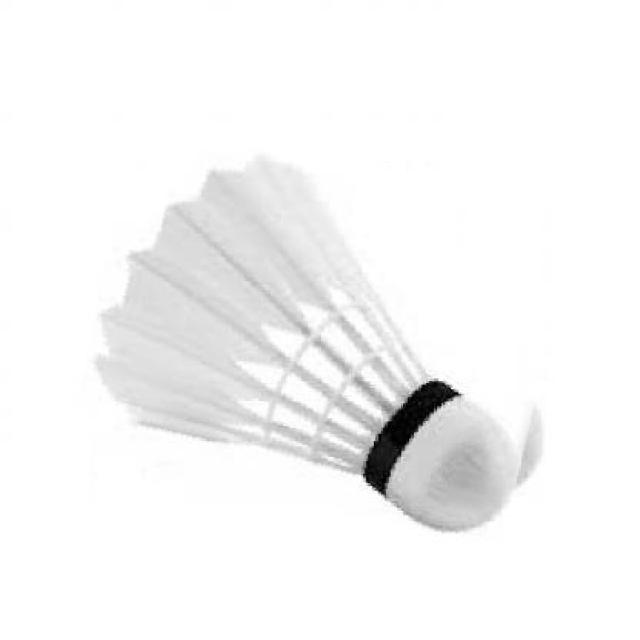Shuttlecock: (82, 146, 560, 525)
